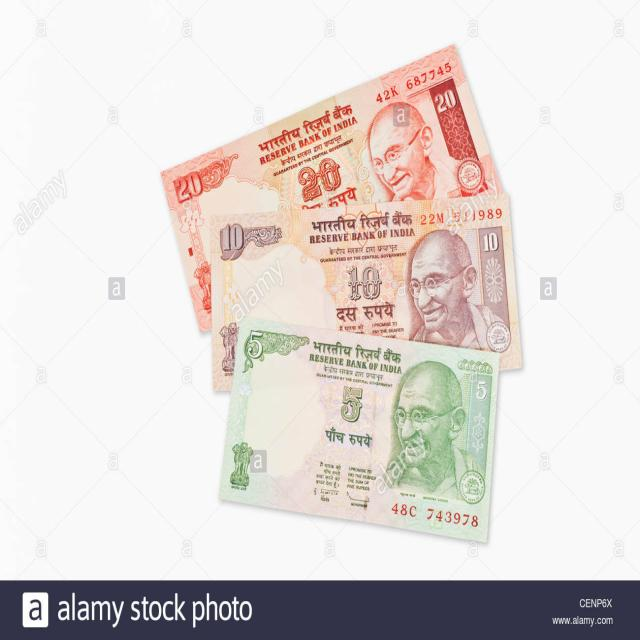20IndianRupees: (160, 44, 499, 250)
